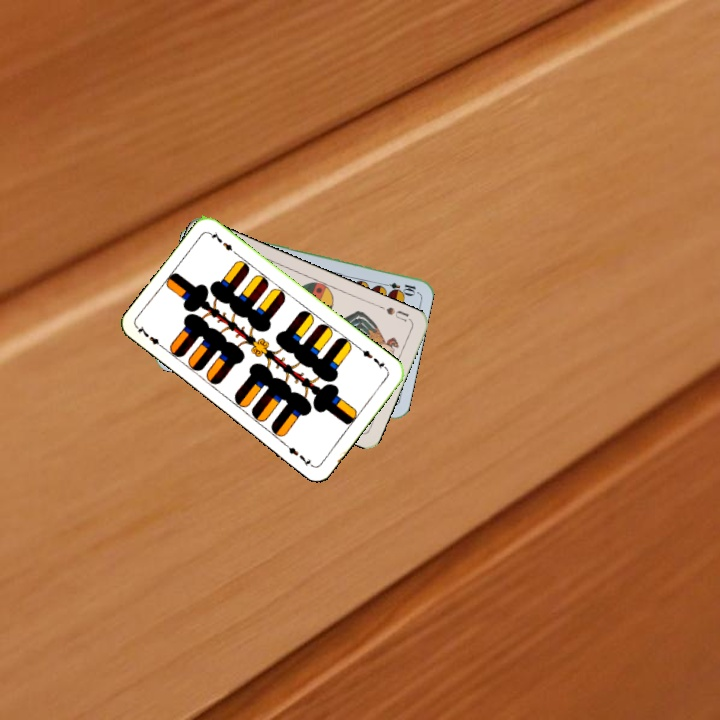E10: (378, 278, 418, 296)
E7: (133, 322, 168, 352), (355, 344, 390, 373)
SU: (375, 301, 414, 324)
